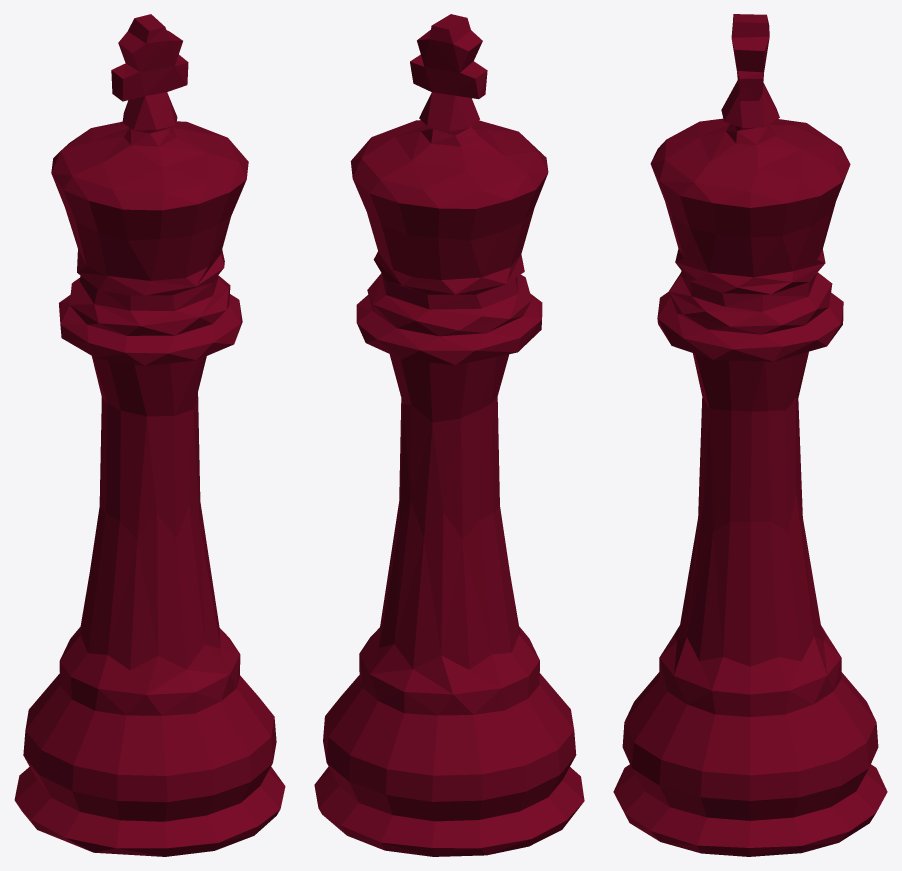
The model's file is king_dk.fbx.
3 renders of one model, left to right at view 1: azimuth 30°, elevation 25°; view 2: azimuth 150°, elevation 25°; view 3: azimuth 270°, elevation 25°, orthographic.
Parts seen in each view (by area): view 1: King_DK; view 2: King_DK; view 3: King_DK.
Part boxes in pixels (x1,y1,x2,y2): King_DK: (14, 14, 285, 856); King_DK: (314, 14, 584, 856); King_DK: (613, 14, 887, 856).
Bounding box in the file's own units: 1.84 × 5.9 × 1.85.
